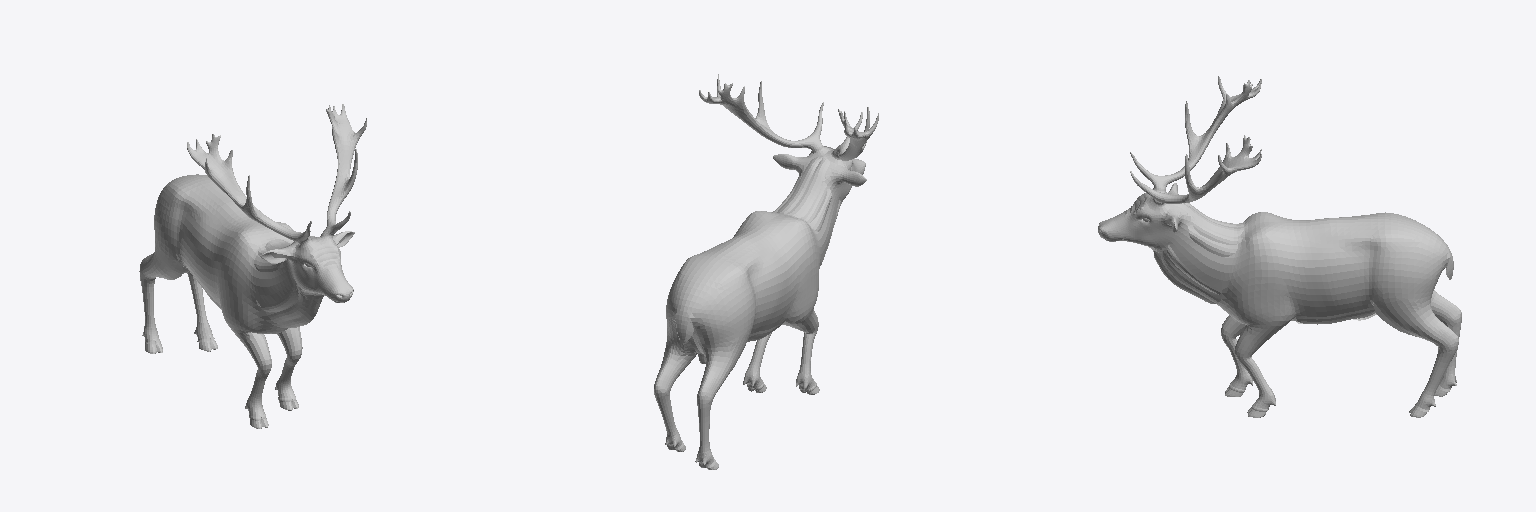
The model's file is frame_0026_uv.obj.
3 views of the same model, side by side, from view 1: azimuth 30°, elevation 25°; view 2: azimuth 150°, elevation 25°; view 3: azimuth 270°, elevation 25° (orthographic).
Parts seen in each view (by area): view 1: pMesh1; view 2: pMesh1; view 3: pMesh1.
Part boxes in pixels (x1,y1,x2,y2): pMesh1: (139, 104, 366, 428); pMesh1: (654, 74, 878, 469); pMesh1: (1098, 76, 1461, 417).
Bounding box in the file's own units: 1.05 × 1.83 × 2.05.